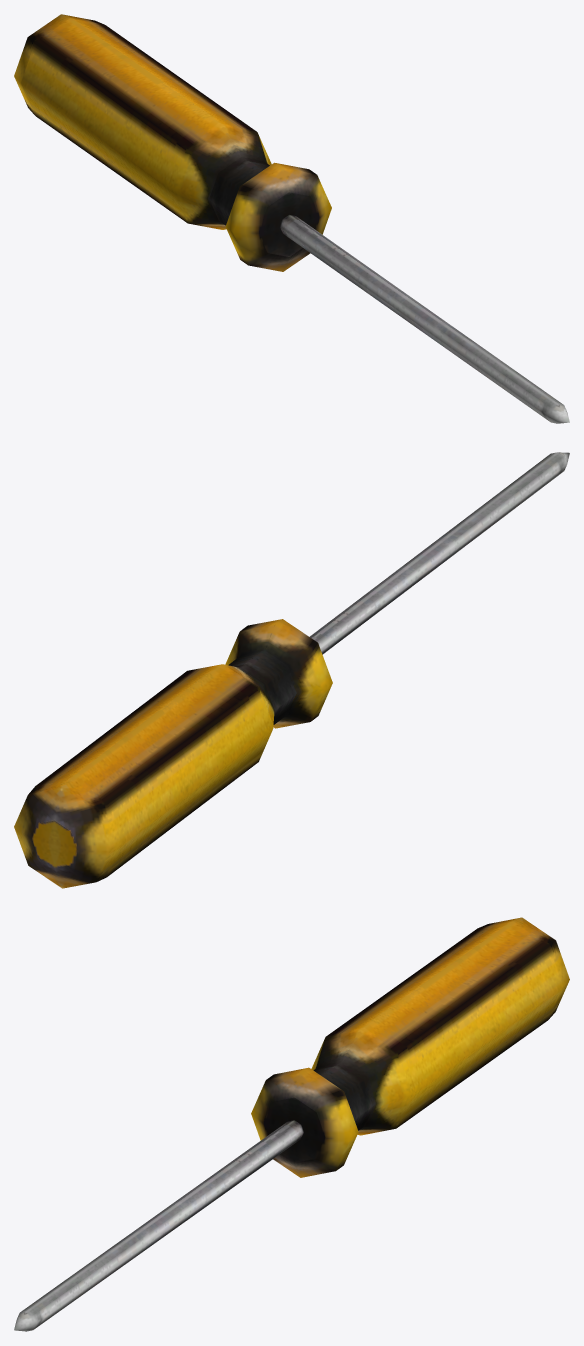
The model's file is clo_screwdriver.fbx.
3 views of the same model, one above another, from view 1: azimuth 30°, elevation 25°; view 2: azimuth 150°, elevation 25°; view 3: azimuth 330°, elevation 25° (orthographic).
Parts seen in each view (by area): view 1: screwdriver; view 2: screwdriver; view 3: screwdriver.
Part boxes in pixels (box(x1,y1,x2,y2)): screwdriver: box(14, 14, 569, 423); screwdriver: box(14, 452, 569, 888); screwdriver: box(14, 917, 569, 1331).
Bounding box in the file's own units: 3.7 × 3.82 × 32.78.
1 material, 1 textured.
